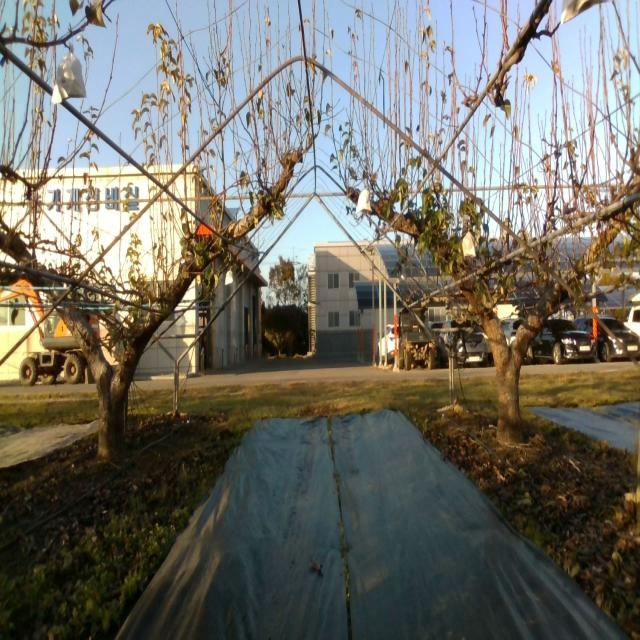pearbags: (50, 41, 88, 106), (462, 228, 477, 260), (356, 188, 372, 215)
